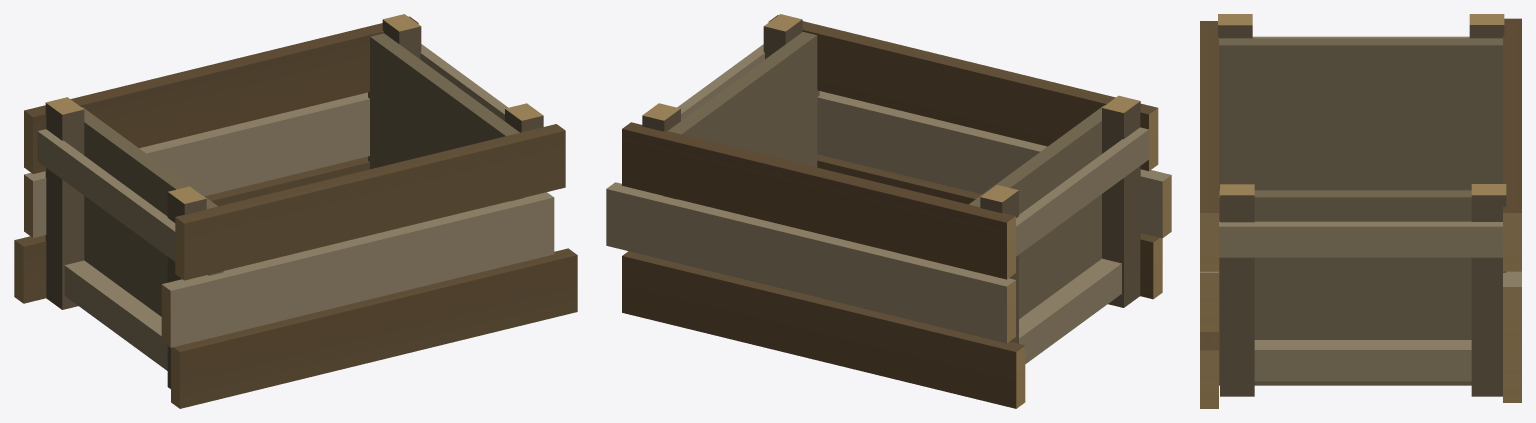
The model's file is Crate_4.fbx.
The picture shows the model from 3 angles, left to right: view 1: azimuth 30°, elevation 25°; view 2: azimuth 150°, elevation 25°; view 3: azimuth 270°, elevation 25°; orthographic projection. The views are drawn at different scales.
Visible parts, largest first — view 1: polySurface9650; view 2: polySurface9650; view 3: polySurface9650.
Part boxes in pixels (x1,y1,x2,y2): polySurface9650: (14,14,577,408); polySurface9650: (606,14,1171,408); polySurface9650: (1200,14,1521,408).
Bounding box in the file's own units: 179 × 81.29 × 118.
